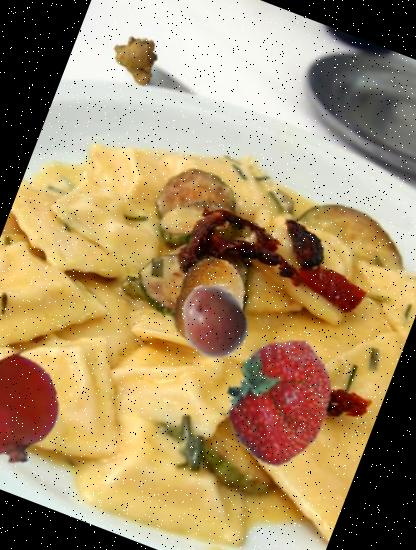Ginger: (102, 29, 169, 96)
Kiwi: (149, 245, 268, 364)
Potato: (164, 272, 262, 371)
Redcurrant: (0, 343, 76, 481)
Strawberry: (192, 315, 364, 487)
